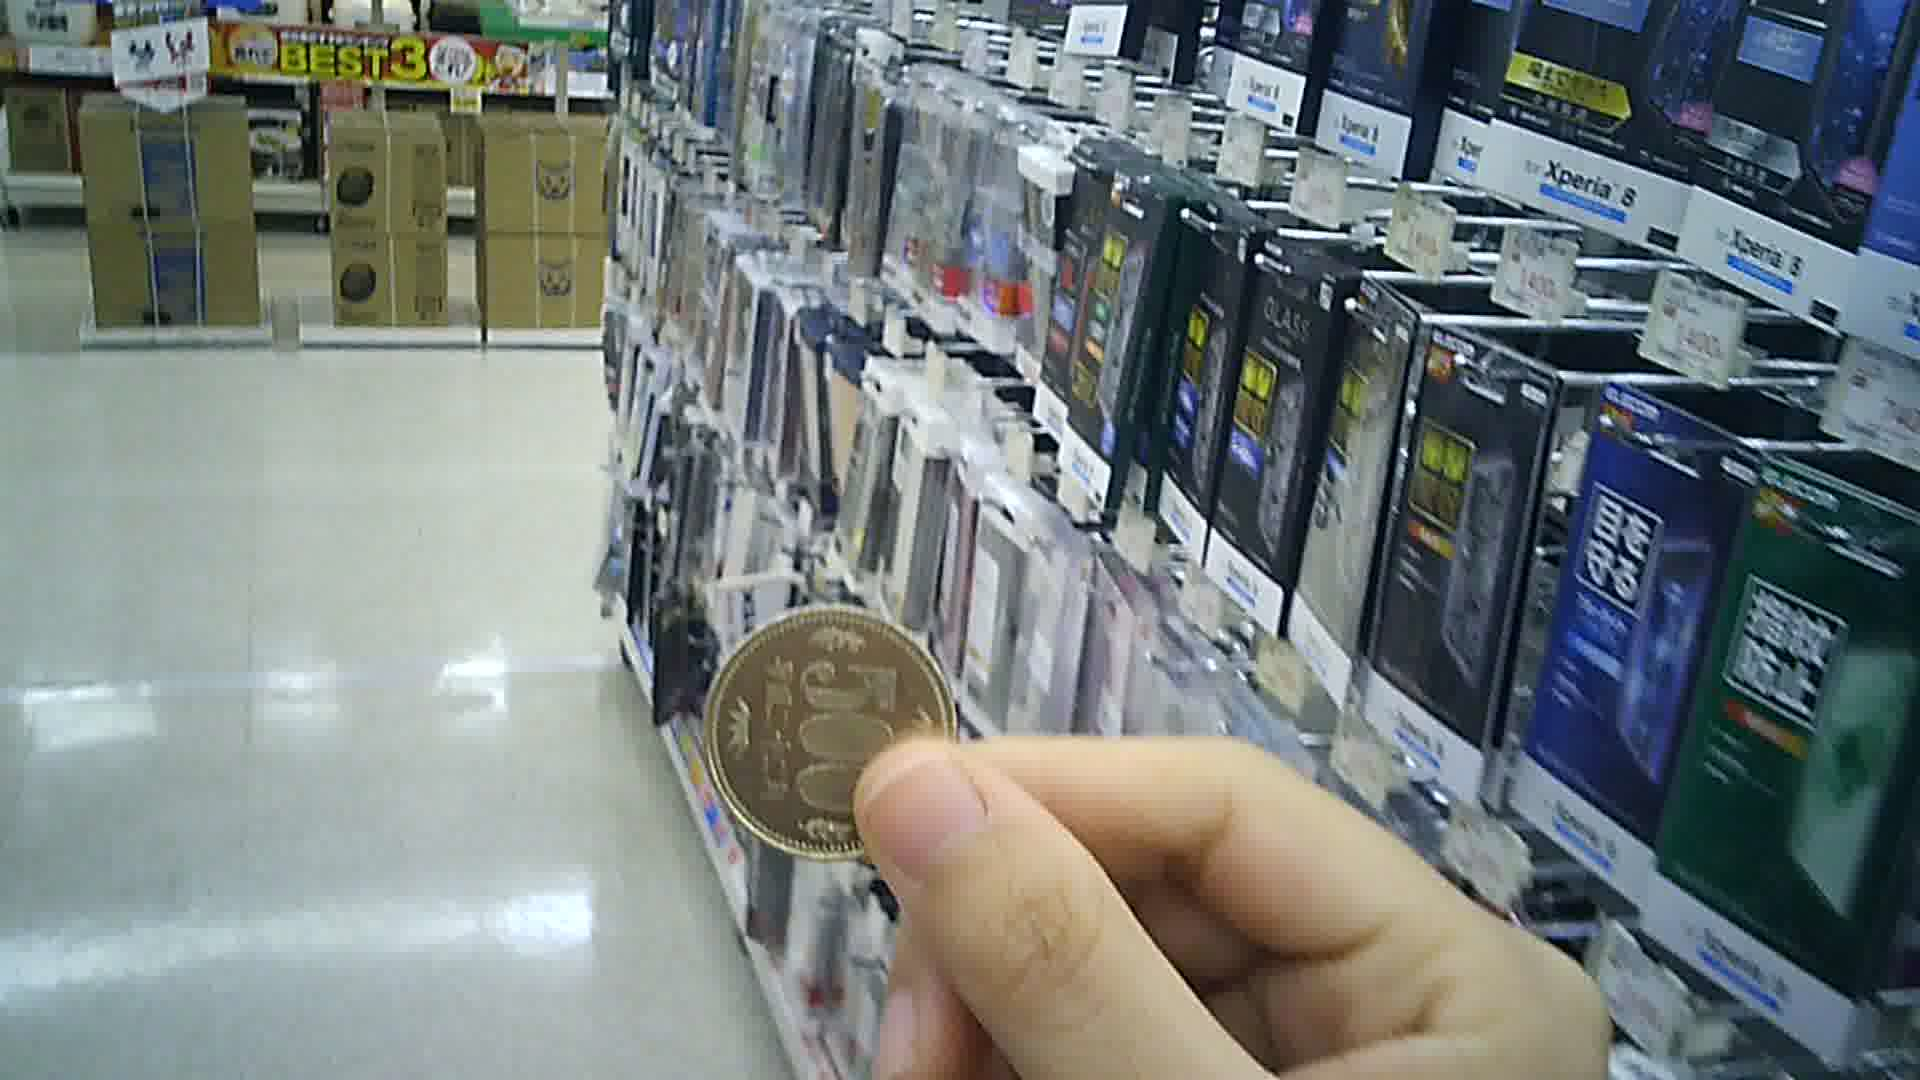500 Yen: (696, 607, 957, 865)
